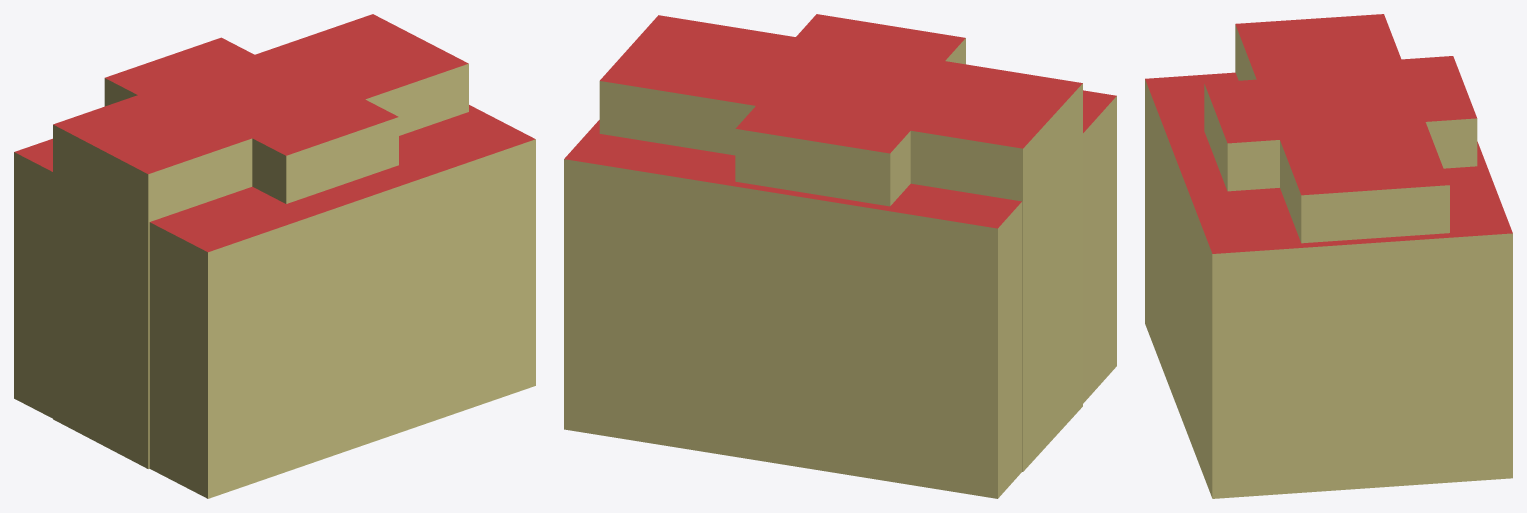
3 renders of one model, left to right at view 1: azimuth 30°, elevation 25°; view 2: azimuth 150°, elevation 25°; view 3: azimuth 270°, elevation 25°, orthographic. The views are drawn at different scales.
Size of the model in its own units: 26.15 by 20.76 by 18.23.
